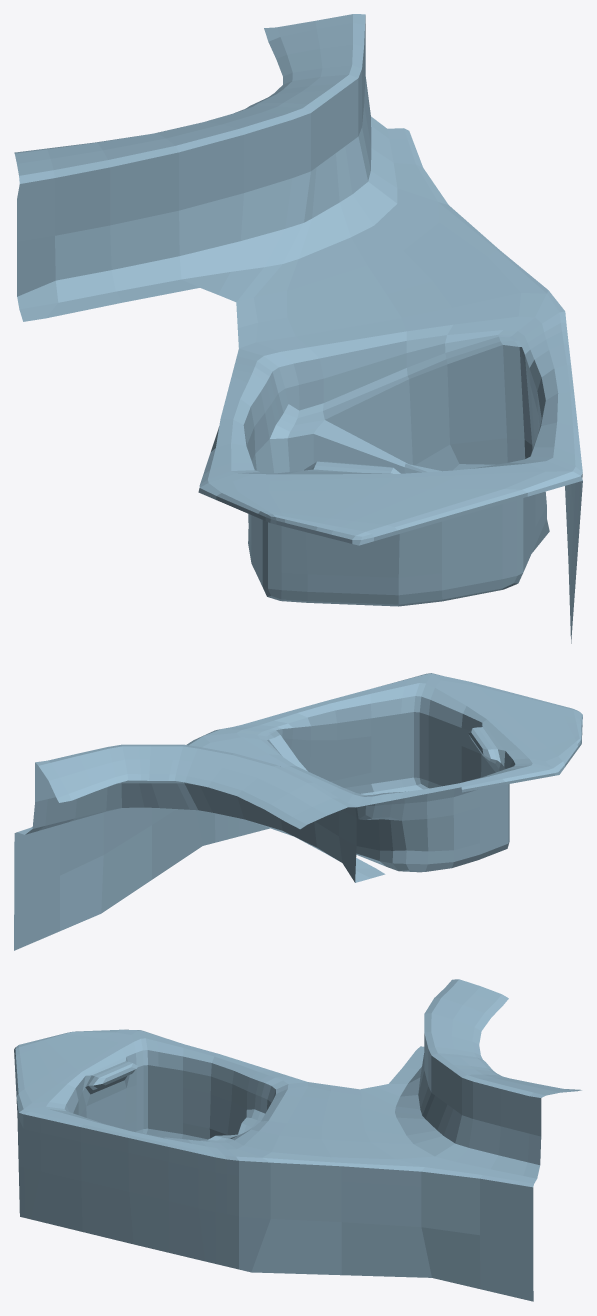
Rendered from terrain_W2A6.fbx.
The picture shows the model from 3 angles, top to bottom: view 1: azimuth 30°, elevation 25°; view 2: azimuth 150°, elevation 25°; view 3: azimuth 270°, elevation 25°; orthographic projection. The views are drawn at different scales.
Visible parts, largest first — view 1: W2A6_mesh; view 2: W2A6_mesh; view 3: W2A6_mesh.
Part boxes in pixels (bbox=[...]): W2A6_mesh: bbox=[14, 14, 582, 643]; W2A6_mesh: bbox=[14, 673, 582, 950]; W2A6_mesh: bbox=[14, 979, 581, 1301].
Bounding box in the file's own units: 24224 × 13362 × 35932.
